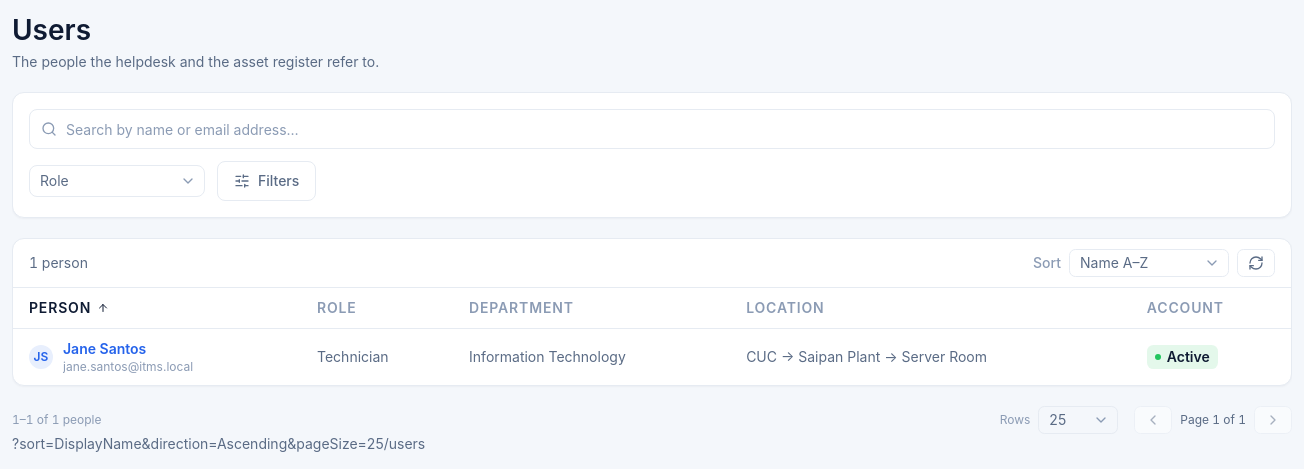
Test: UsersPage › reverses the ordering when the sorted column is clicked again
Check: the button "Jane Santos" is shown, box [63,338,146,358]
Step 1. Click the button "Person" → click(69, 308), box [29,298,109,318]
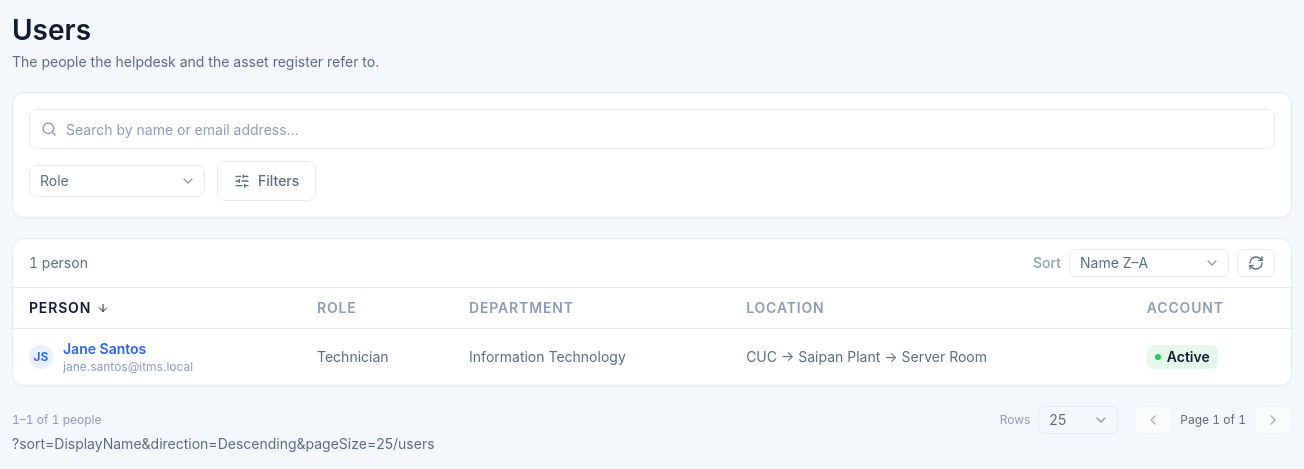
Check: the text with test id "address" shows "direction=Descending", box [12,434,393,452]
